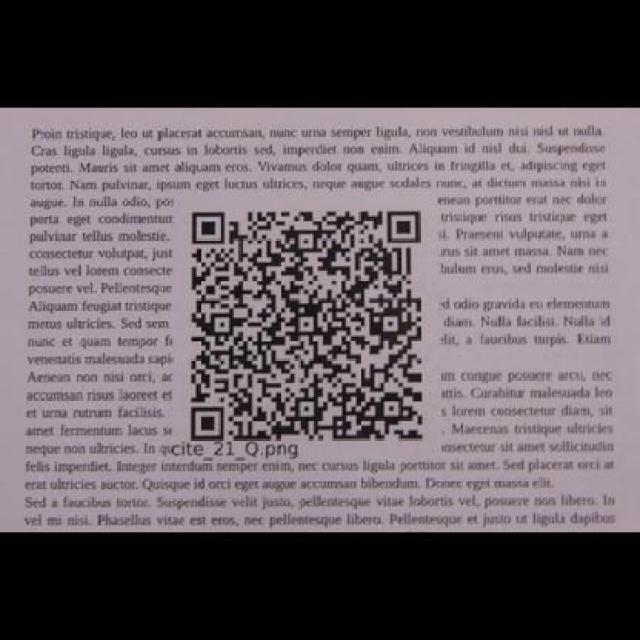QRCode: (177, 198, 438, 445)
